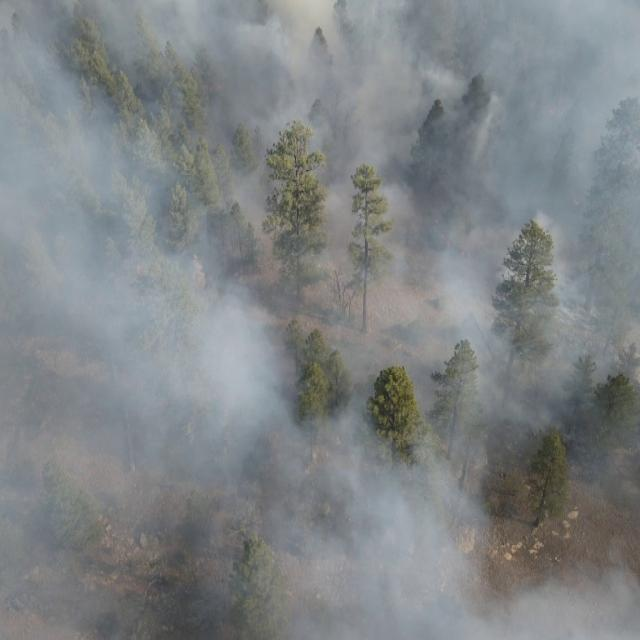fire: (432, 222, 468, 258), (546, 104, 564, 118), (572, 192, 582, 212)
smoke: (0, 0, 640, 640)
